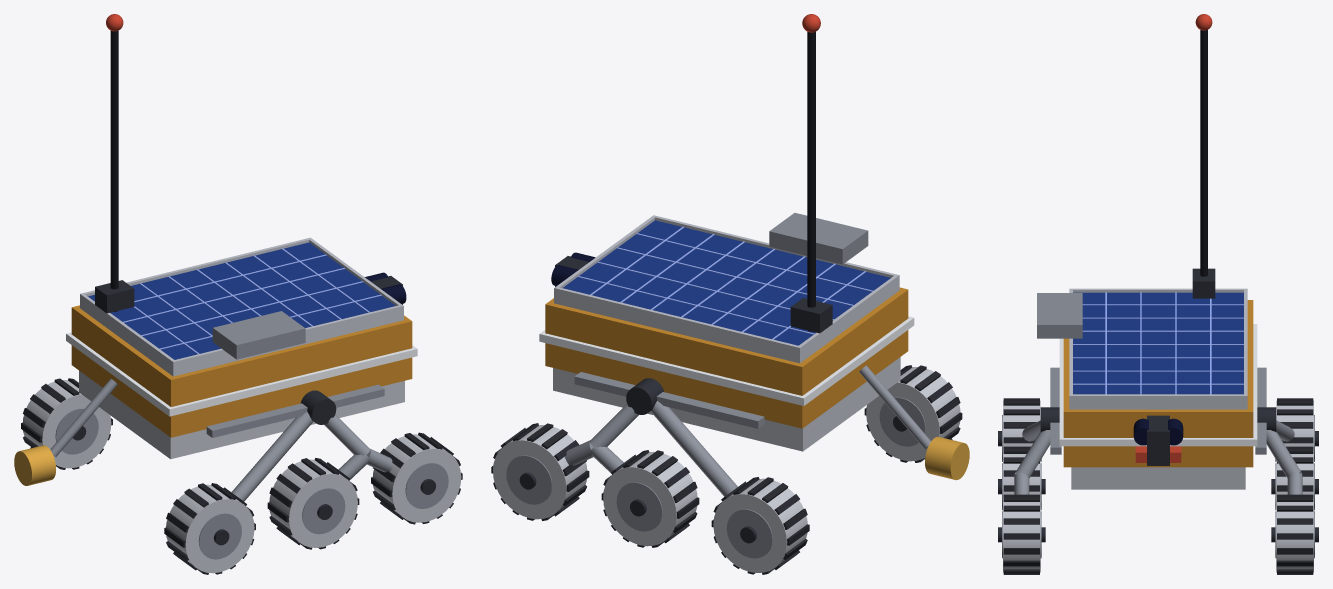
File: sojourner.glb
The picture shows the model from 3 angles, left to right: view 1: azimuth 30°, elevation 25°; view 2: azimuth 150°, elevation 25°; view 3: azimuth 270°, elevation 25°; orthographic projection. The views are drawn at different scales.
Visible parts, largest first — view 1: sojourner, wheel (×4), solar-panel; view 2: sojourner, solar-panel, wheel (×4); view 3: sojourner, solar-panel, wheel (×6).
Part boxes in pixels (x1,y1,x2,y2): sojourner: (14, 14, 417, 501); wheel (×4): (21, 378, 462, 574); solar-panel: (80, 237, 403, 376); sojourner: (539, 14, 969, 496); solar-panel: (554, 215, 899, 363); wheel (×4): (491, 365, 962, 574); sojourner: (1014, 14, 1302, 494); solar-panel: (1069, 288, 1247, 409); wheel (×6): (998, 398, 1318, 574).
Bounding box in the file's own units: 1.08 × 1.34 × 0.845.
